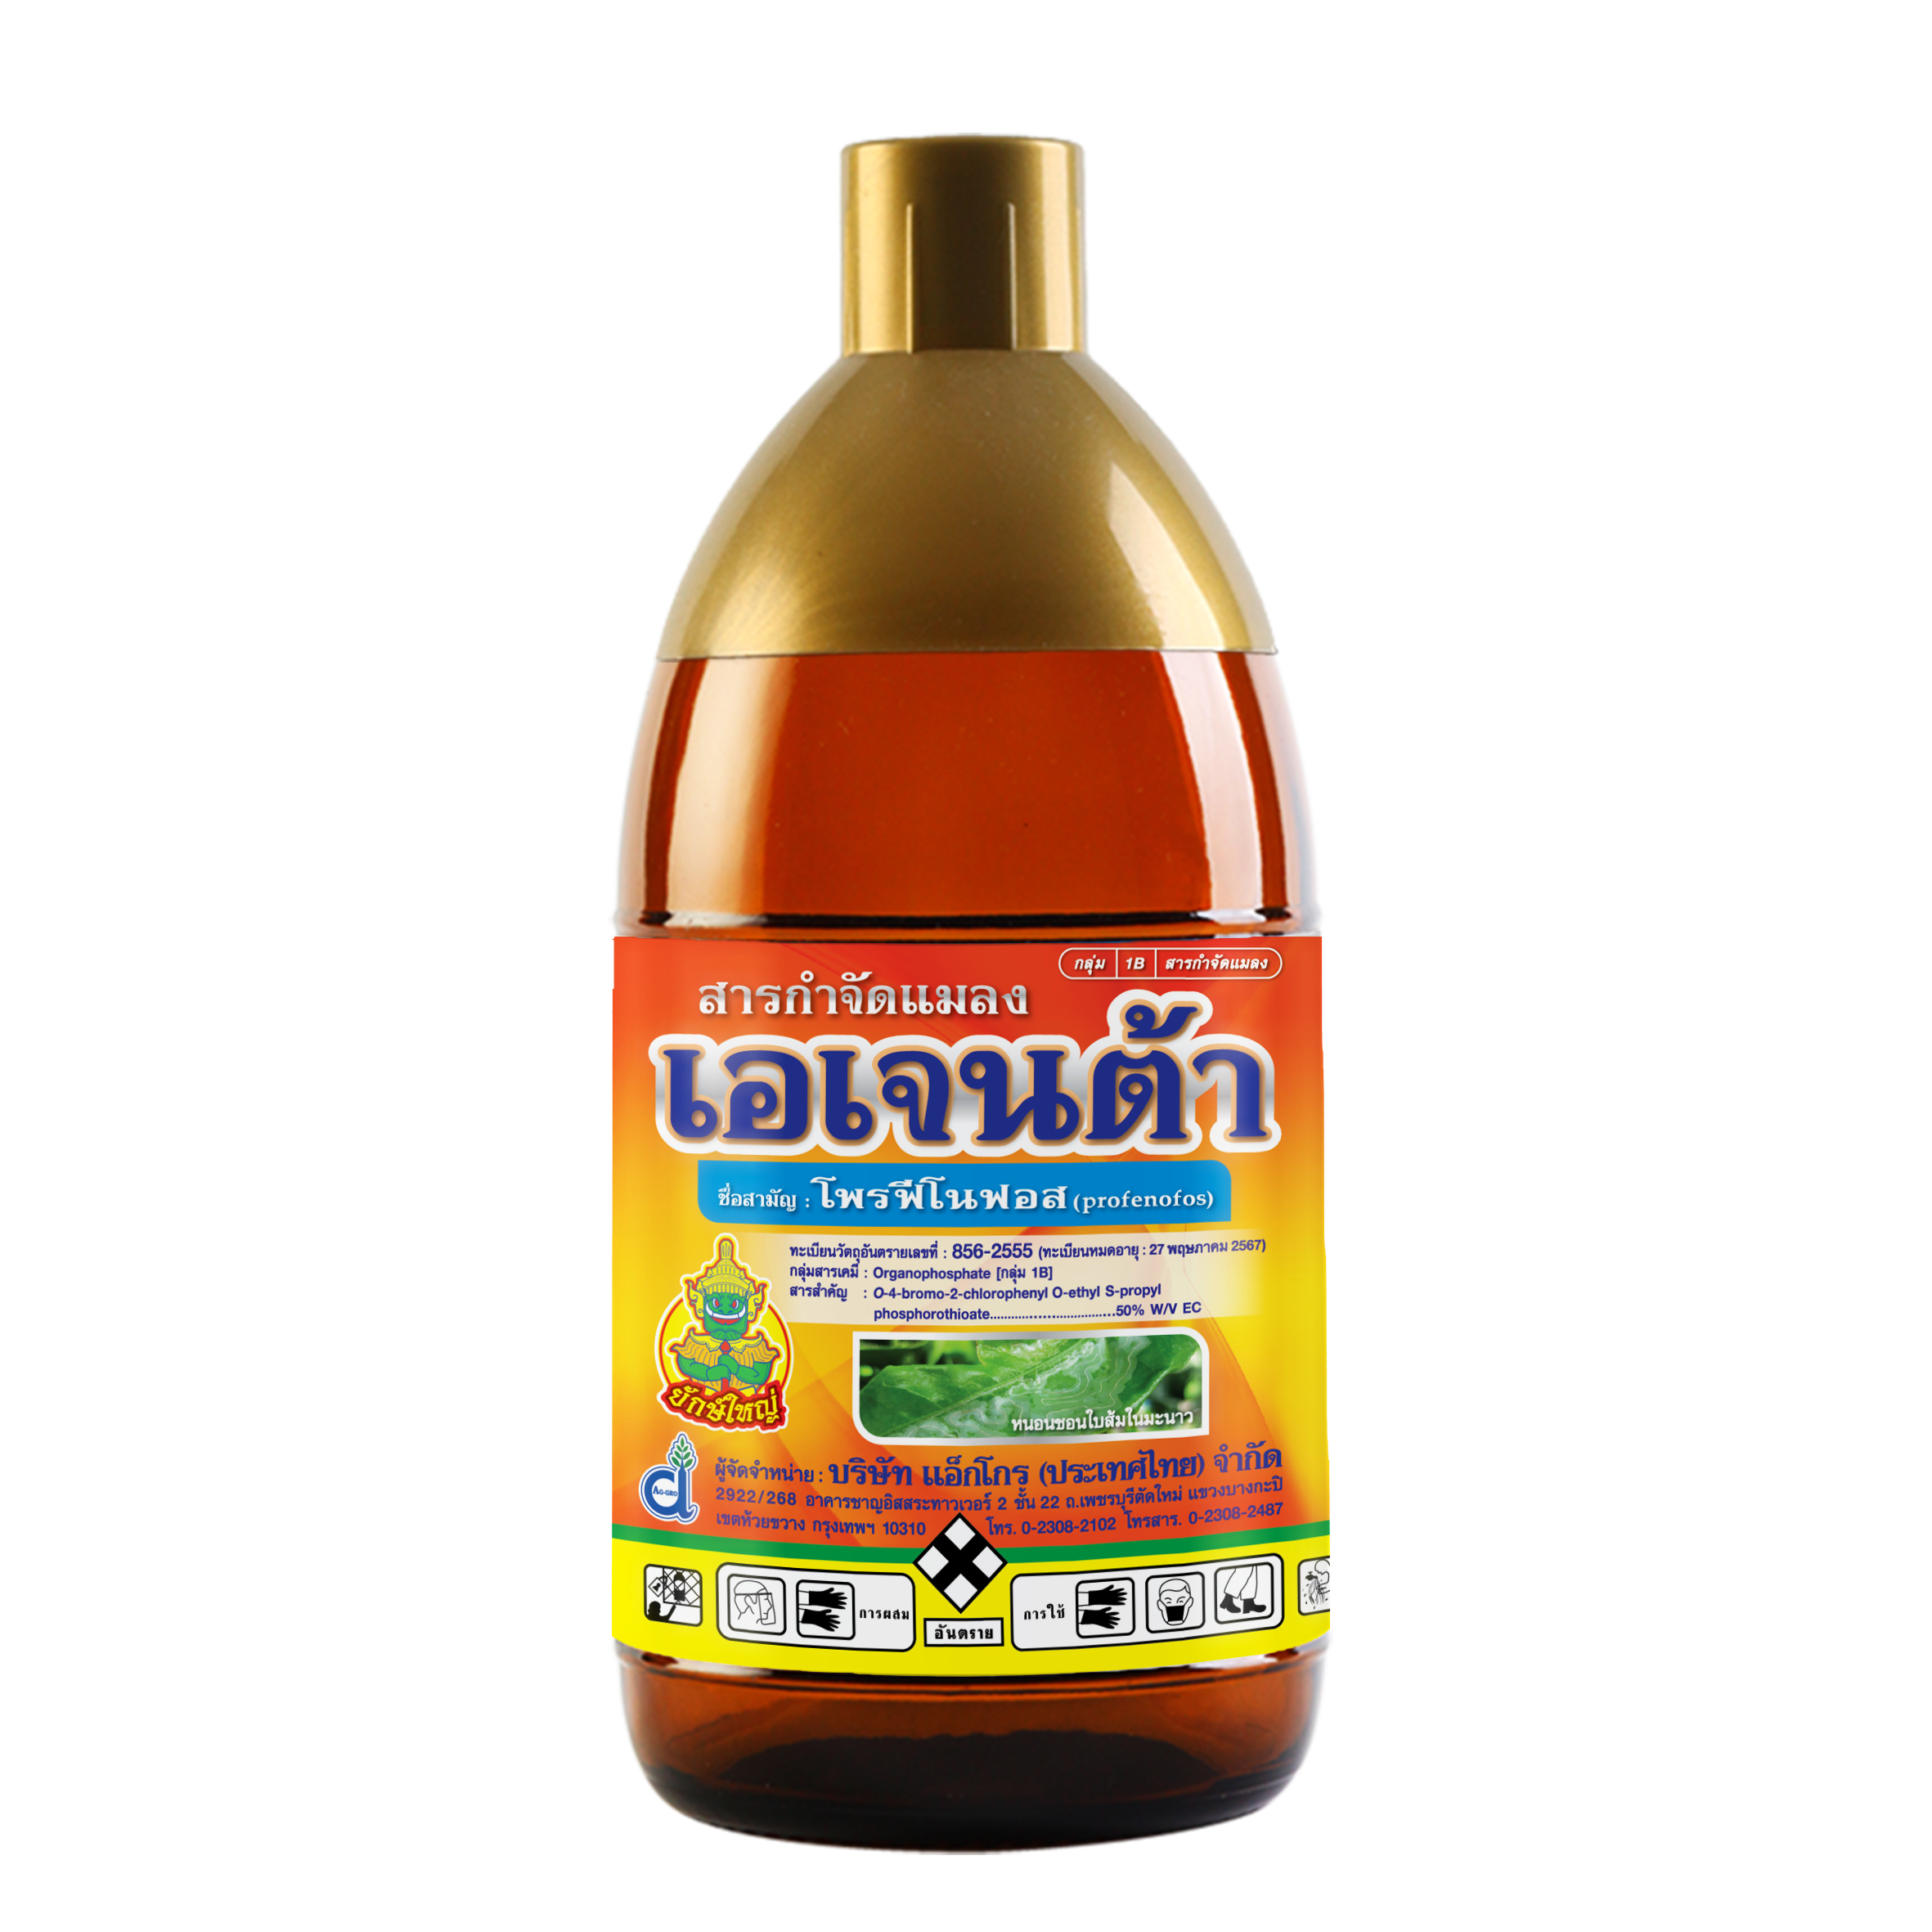Insecticide: (584, 111, 1353, 1865)
